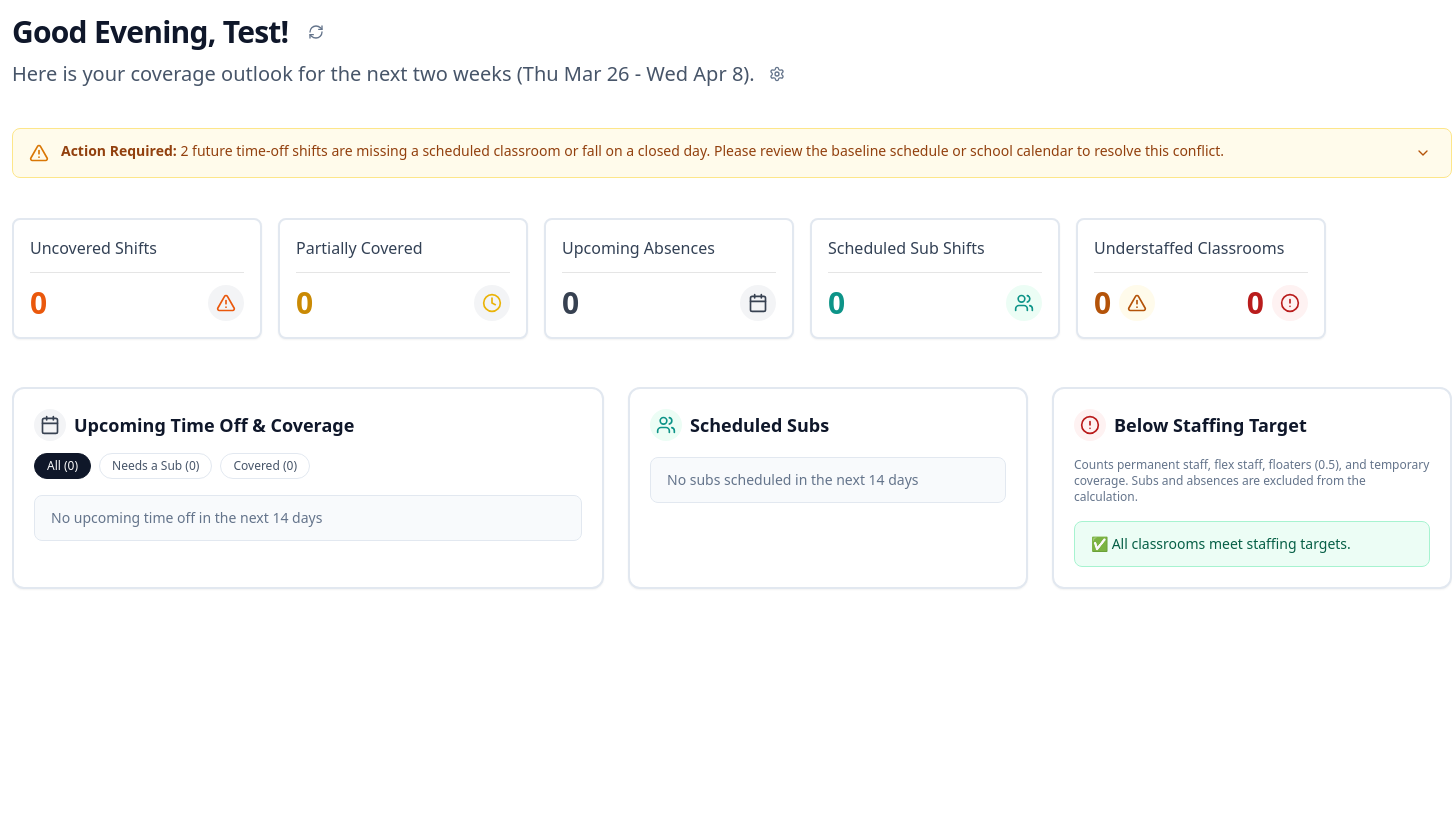
Test: DashboardClient - Below Staffing Target › shows expandable orphaned shift details in action-required banner
Check: the text "Action Required:" is shown, box [61,141,177,160]
Click the button named "expand issue details". click: (1423, 153)
box: [1411,141,1435,165]
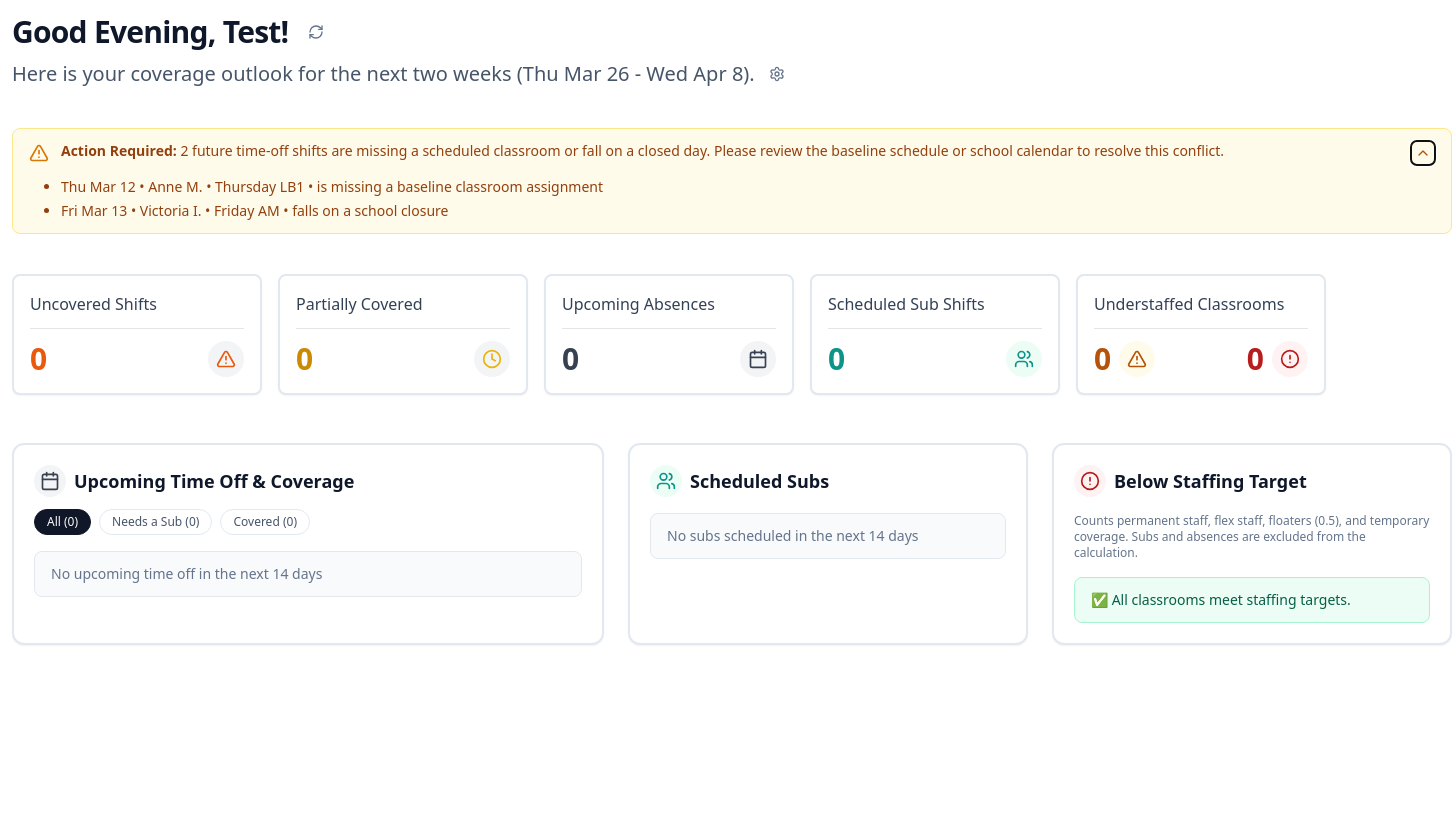
Check: the list with test id "orphaned-shift-list" is shown, box [61,177,603,220]
Check: the list item "Anne M." is shown, box [136,177,202,196]
Check: the list item "Victoria I." is shown, box [127,201,202,220]
